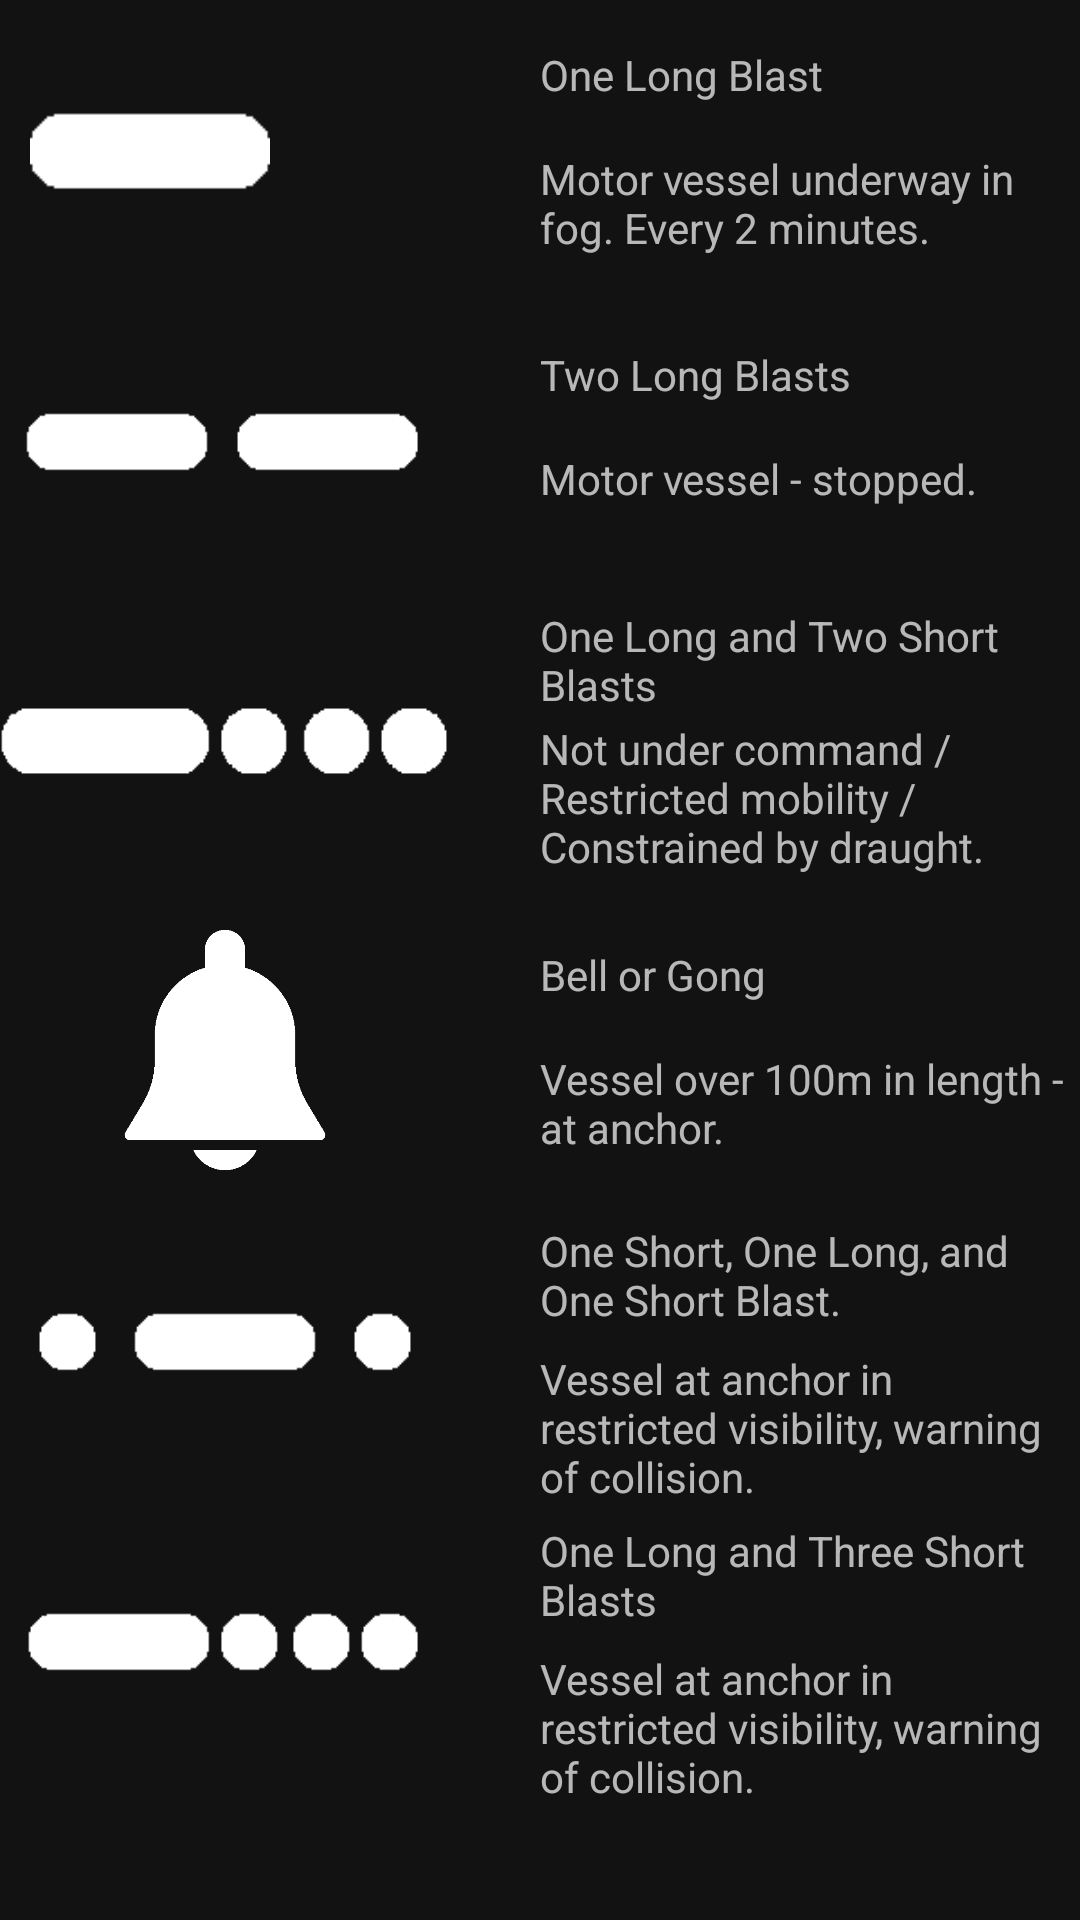

Named icons in this screenshot (1080×1920) and their centers, [x,y]:
longblast: [150,151]
